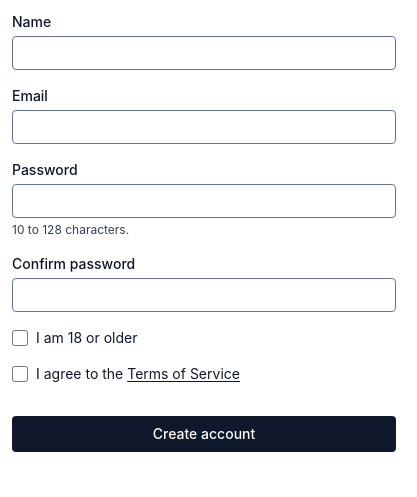
Test: SignupForm › when the ToS box is unchecked › blocks submit with a field error
The image size is (417, 497).
In the field labelled "Name": (204, 53) [12,36,396,70], type "Ada"
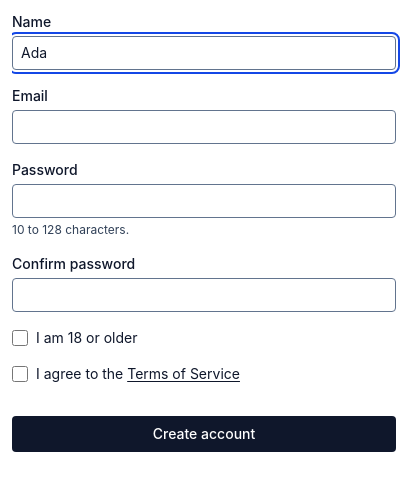
In the field labelled "Email": (204, 127) [12,110,396,144], type "ada@example.com"
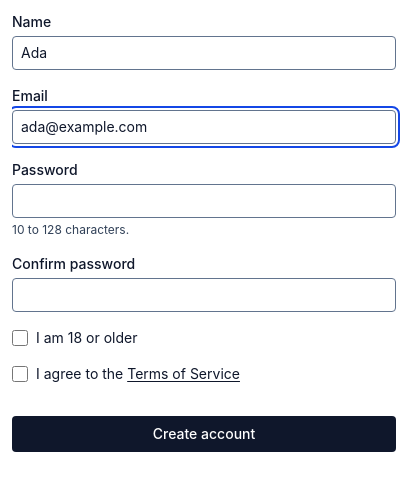
In the password field labelled "Password": (204, 201) [12,184,396,218], type "longenough1"
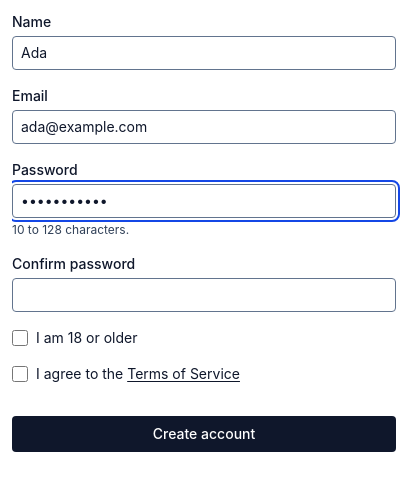
In the password field labelled "Confirm password": (204, 295) [12,278,396,312], type "longenough1"
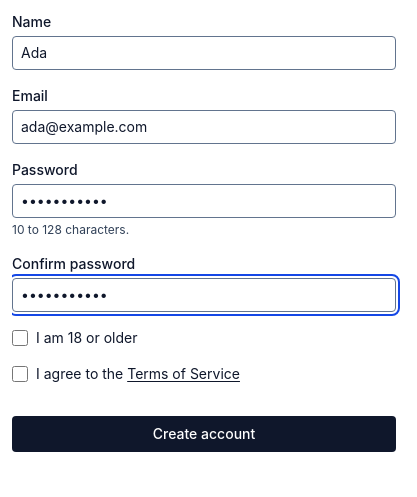
Click the checkbox labelled "I am 18 or older": (20, 338) [12,330,28,346]
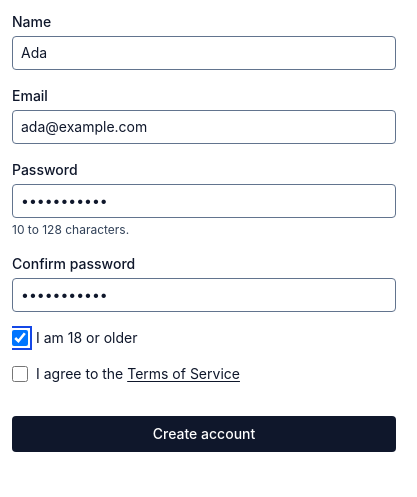
Click the button "Create account": (204, 434) [12,416,396,452]
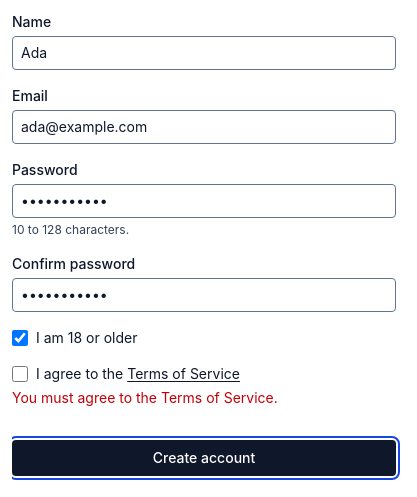
Expected: the text "You must agree to the Terms of Service." is shown, [12,389,278,406]
